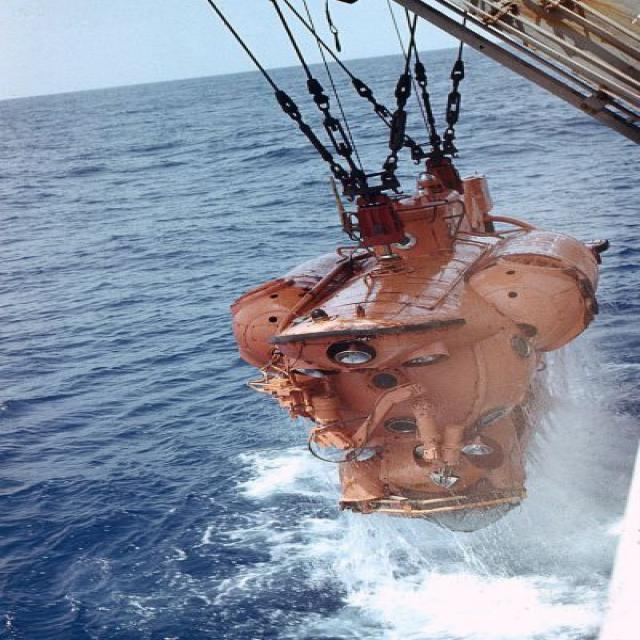submarine: (232, 173, 608, 543)
